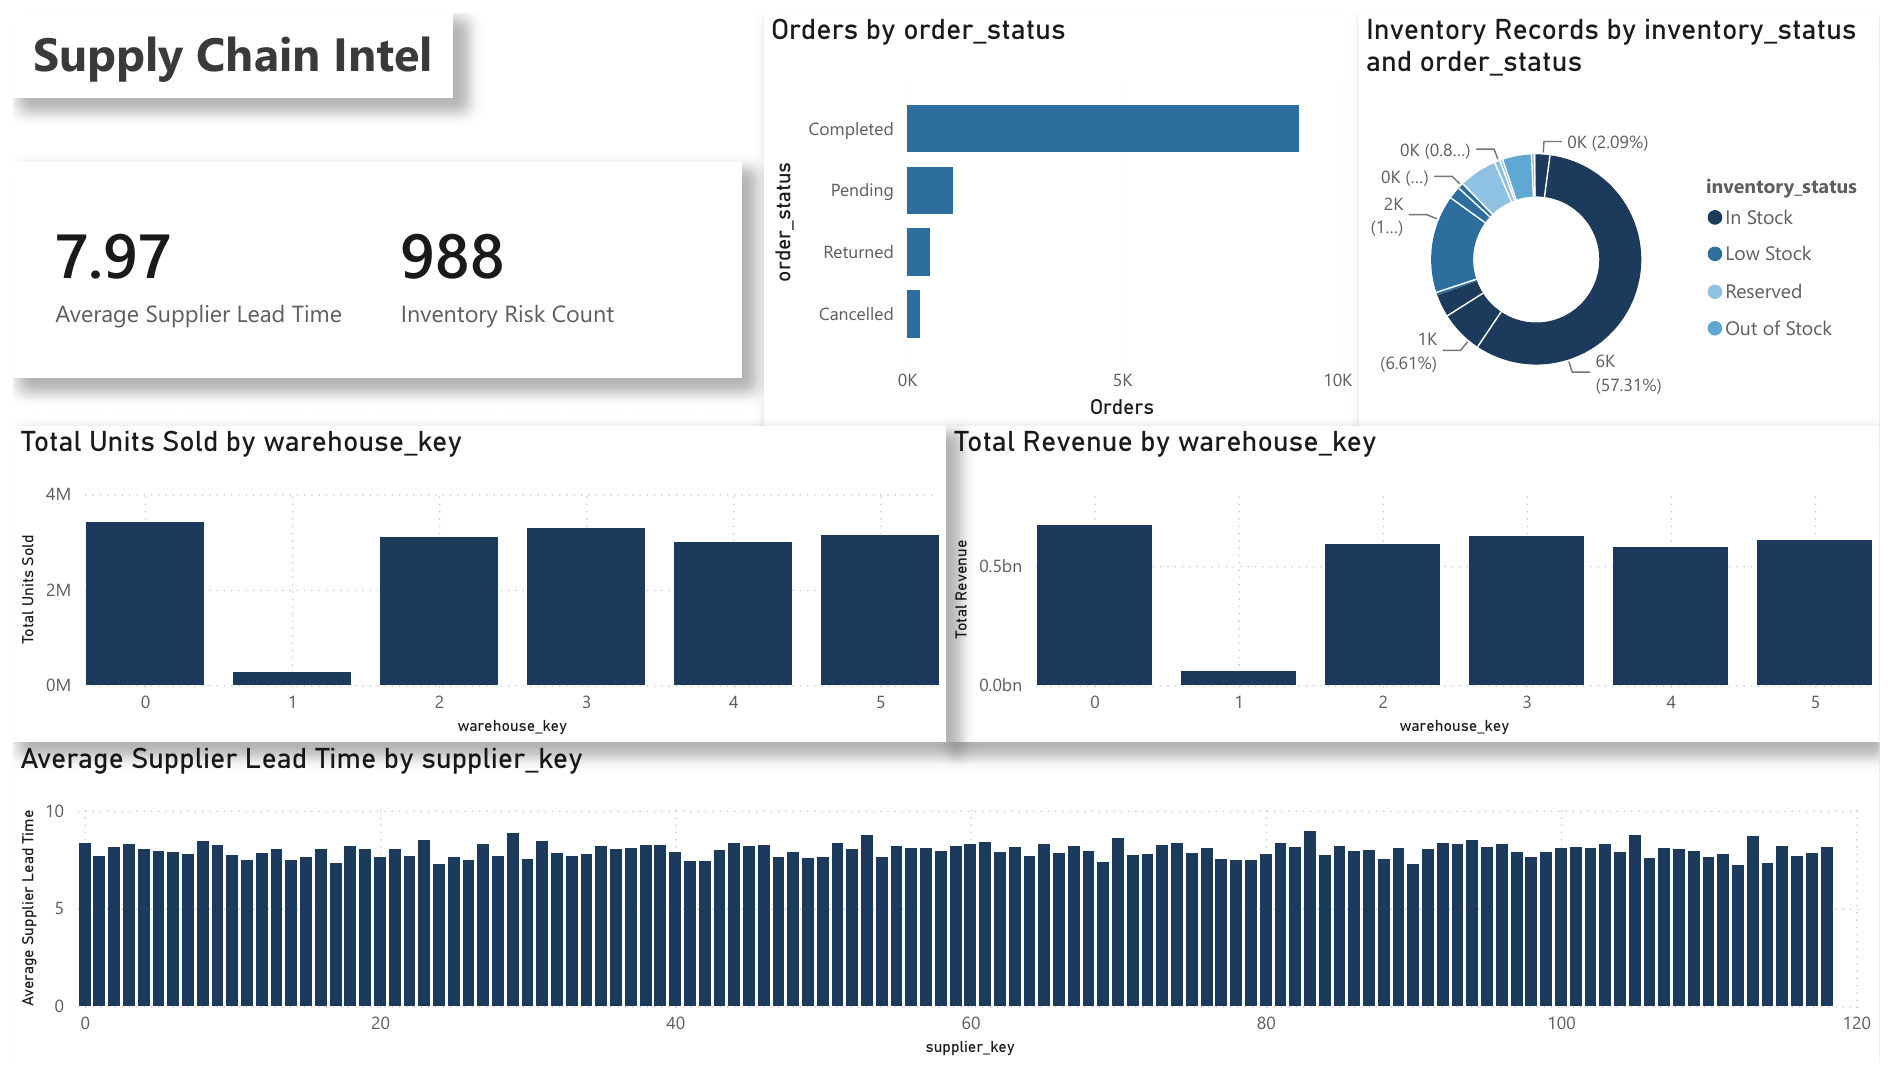

The dashboard page shown, as its layout file describes it:
{"tool":"powerbi","page":{"name":"Supply Chain Intelligence","canvas":[1280,720],"ordinal":5},"visuals":[{"type":"cardVisual","fields":{"Data":["MeasuresX.Average Supplier Lead Time","MeasuresX.Inventory Risk Count"]},"box":[0,101.7,500,148.3],"z":0},{"type":"columnChart","fields":{"Category":["dim_supplier.supplier_key"],"Y":["MeasuresX.Average Supplier Lead Time"]},"box":[0,500,1280,220],"z":1000},{"type":"barChart","fields":{"Category":["fact_sales.order_status"],"Y":["MeasuresX.Orders"]},"box":[515,0,408.3,283.3],"z":2000},{"type":"donutChart","fields":{"Category":["fact_sales.inventory_status"],"Series":["fact_sales.order_status"],"Y":["MeasuresX.Inventory Records"]},"box":[923.3,0,356.7,283.3],"z":3000},{"type":"clusteredColumnChart","fields":{"Category":["dim_warehouse.warehouse_key"],"Y":["MeasuresX.Total Revenue"]},"box":[640,283.3,640,216.7],"z":4000},{"type":"columnChart","fields":{"Category":["dim_warehouse.warehouse_key"],"Y":["MeasuresX.Total Units Sold"]},"box":[0,283.3,640,216.7],"z":5000},{"type":"textbox","box":[0,0,301.7,58.3],"z":6000}]}

Visuals, with their boxes in screenshot pixels (x1, y1, x2, y2), scaled from the page's 1280x720 canvas onto the 1892x1075 screenshot:
cardVisual - MeasuresX.Average Supplier Lead Time x MeasuresX.Inventory Risk Count: locate(0, 152, 739, 373)
columnChart - dim_supplier.supplier_key x MeasuresX.Average Supplier Lead Time: locate(0, 747, 1891, 1074)
barChart - fact_sales.order_status x MeasuresX.Orders: locate(761, 0, 1365, 423)
donutChart - fact_sales.inventory_status x fact_sales.order_status: locate(1365, 0, 1891, 423)
clusteredColumnChart - dim_warehouse.warehouse_key x MeasuresX.Total Revenue: locate(946, 423, 1891, 747)
columnChart - dim_warehouse.warehouse_key x MeasuresX.Total Units Sold: locate(0, 423, 946, 747)
textbox: locate(0, 0, 446, 87)
